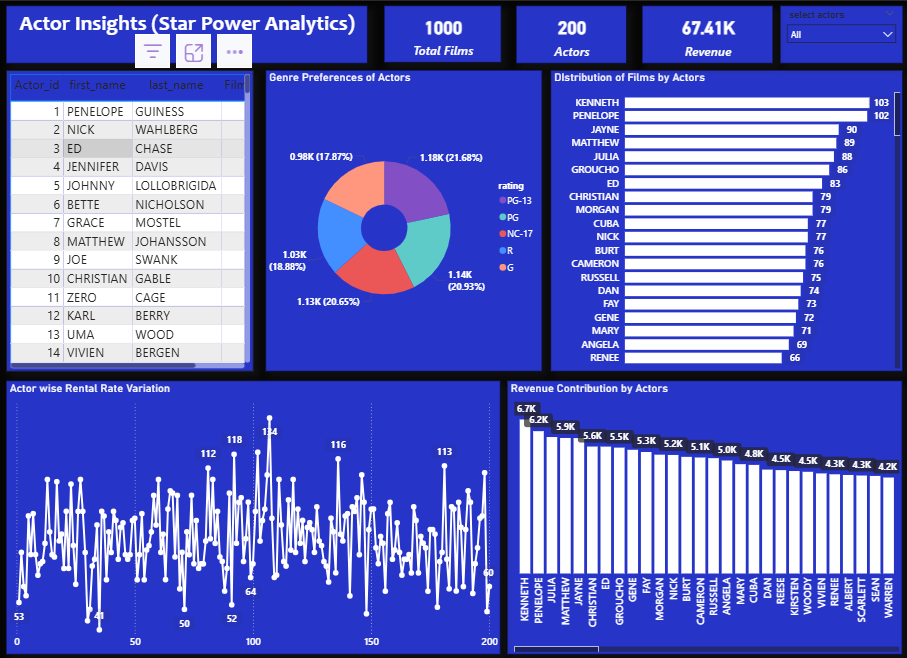

The dashboard page shown, as its layout file describes it:
{"tool":"powerbi","page":{"name":"Q22","canvas":[1280,720],"ordinal":28},"visuals":[{"type":"textbox","box":[55.8,14,479.1,89.5],"z":0},{"type":"textbox","box":[55.8,134.9,479.1,525.6],"z":1000},{"type":"barChart","title":"DIstribution of Films by Actors","fields":{"Category":["actor.first_name"],"Y":["CountNonNull(film_actor.film_id)"]},"box":[567.4,14,657,696.5],"z":2000}]}

Visuals, with their boxes on the page's 1280x720 design canvas (x1, y1, x2, y2). These are canvas units, not pixel positions in the 907x658 screenshot, which may show the page scaled, cropped or inside an application window:
textbox: (left=56, top=14, right=535, bottom=104)
textbox: (left=56, top=135, right=535, bottom=660)
"DIstribution of Films by Actors" barChart: (left=567, top=14, right=1224, bottom=710)
